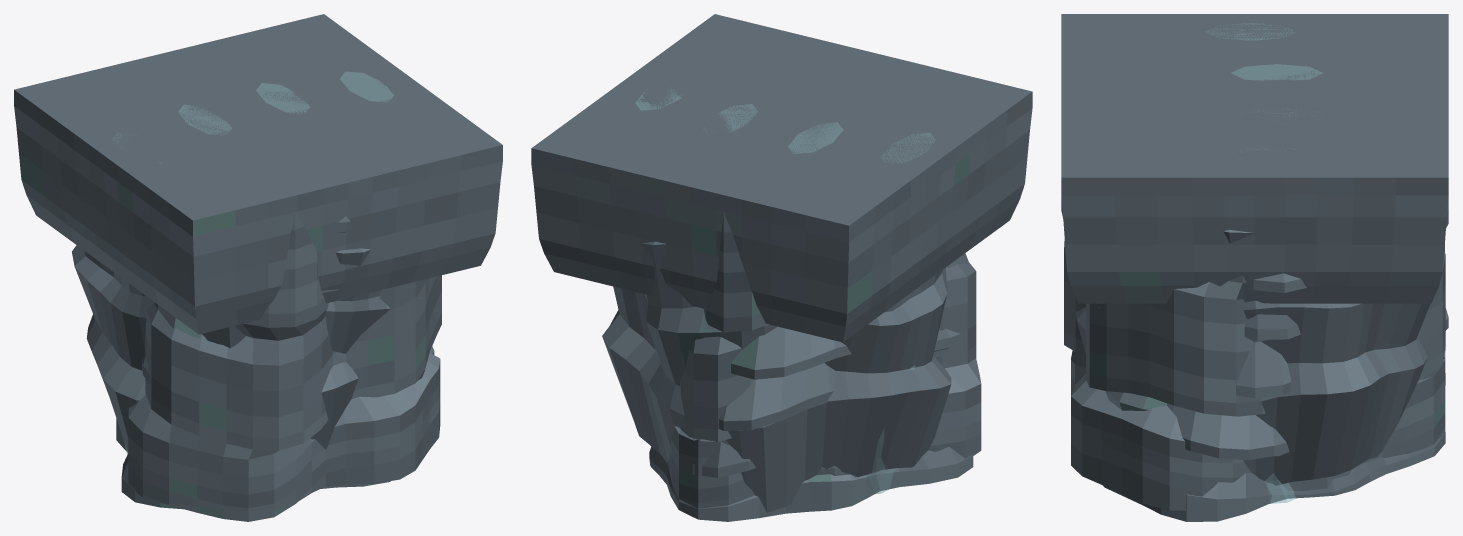
Rendered from world05-rock-kit-v4.glb.
The picture shows the model from 3 angles, left to right: view 1: azimuth 30°, elevation 25°; view 2: azimuth 150°, elevation 25°; view 3: azimuth 270°, elevation 25°; orthographic projection. The views are drawn at different scales.
Visible parts, largest first — view 1: cave-foundation-surface, cave-wall-surface, cave-vault-surface, cave-waterfall-surface; view 2: cave-foundation-surface, cave-vault-surface, cave-wall-surface, cave-waterfall-surface; view 3: cave-foundation-surface, cave-wall-surface, cave-vault-surface, cave-waterfall-surface, cave-ledge-surface.
Boxes of the visible parts, x1=… form: cave-foundation-surface: x1=14, y1=14, x2=502, y2=509; cave-wall-surface: x1=128, y1=212, x2=441, y2=521; cave-vault-surface: x1=72, y1=245, x2=425, y2=452; cave-waterfall-surface: x1=106, y1=72, x2=393, y2=454; cave-foundation-surface: x1=531, y1=14, x2=1032, y2=521; cave-vault-surface: x1=602, y1=241, x2=951, y2=512; cave-wall-surface: x1=653, y1=212, x2=981, y2=508; cave-waterfall-surface: x1=636, y1=89, x2=934, y2=494; cave-foundation-surface: x1=1061, y1=14, x2=1448, y2=521; cave-wall-surface: x1=1061, y1=198, x2=1448, y2=510; cave-vault-surface: x1=1075, y1=229, x2=1430, y2=485; cave-waterfall-surface: x1=1206, y1=23, x2=1322, y2=503; cave-ledge-surface: x1=1248, y1=273, x2=1306, y2=292.
Bounding box in the file's own units: 2 × 2 × 2.
